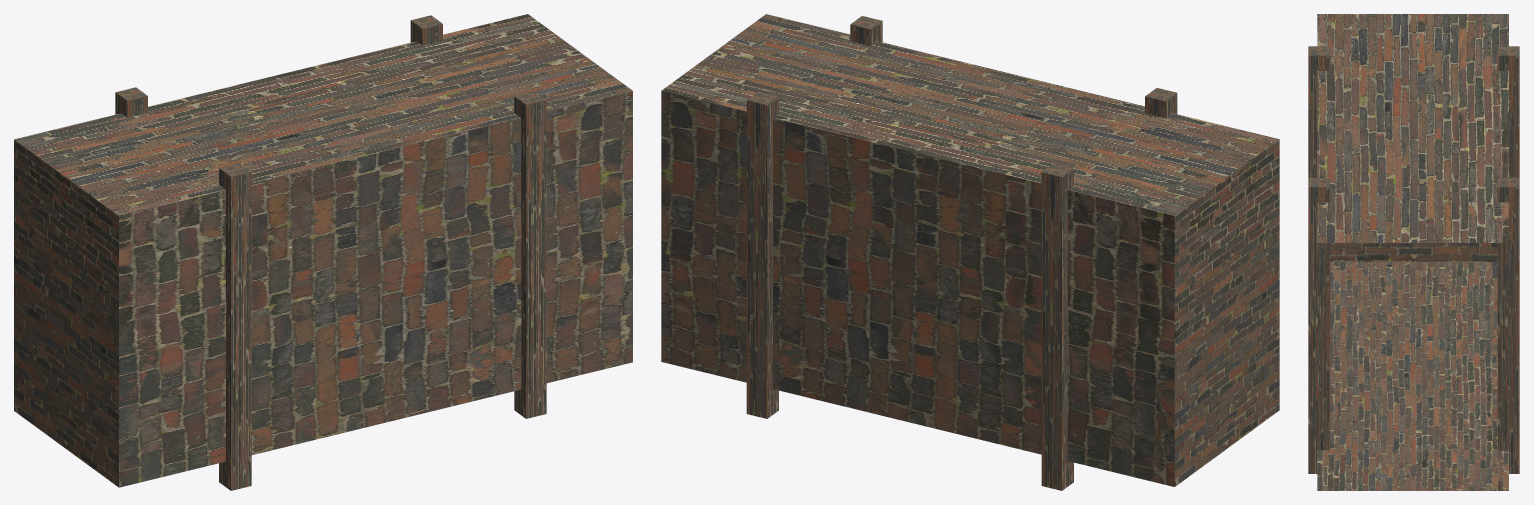
Rendered from room.obj.
3 renders of one model, left to right at view 1: azimuth 30°, elevation 25°; view 2: azimuth 150°, elevation 25°; view 3: azimuth 270°, elevation 25°, orthographic. The views are drawn at different scales.
Visible parts, largest first — view 1: Plane, Cube.002, Cube, Cube.003, Cube.001; view 2: Plane, Cube.001, Cube.003, Cube, Cube.002; view 3: Plane, Cube.001, Cube, Cube.003, Cube.002.
Boxes of the visible parts, x1,y1,x2,y2 form: Plane: (14,14,632,487); Cube.002: (219,163,251,490); Cube: (514,91,546,418); Cube.003: (115,87,147,117); Cube.001: (410,15,442,45); Plane: (661,14,1279,486); Cube.001: (746,91,778,418); Cube.003: (1041,163,1073,490); Cube: (850,16,882,46); Cube.002: (1145,88,1177,117); Plane: (1317,14,1508,490); Cube.001: (1497,178,1519,473); Cube: (1308,178,1330,473); Cube.003: (1497,46,1519,177); Cube.002: (1308,46,1330,177).
Size of the model in its own units: 32.45 by 18.95 by 12.64.
Materials: 2 (2 with a texture image).
